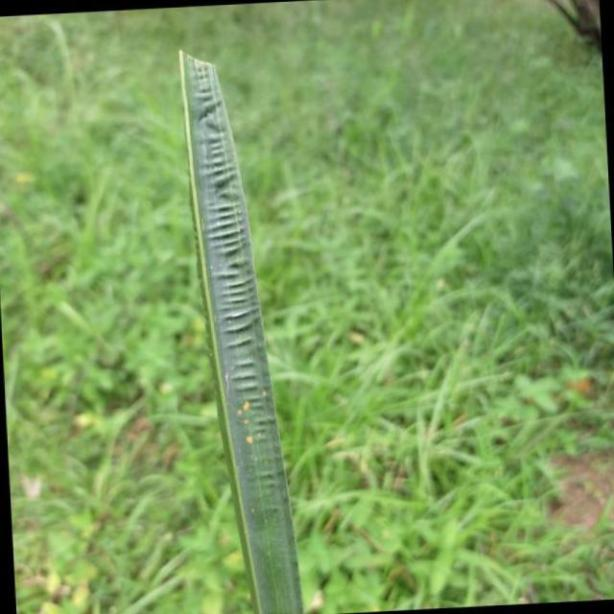Boron: (166, 45, 301, 614)
